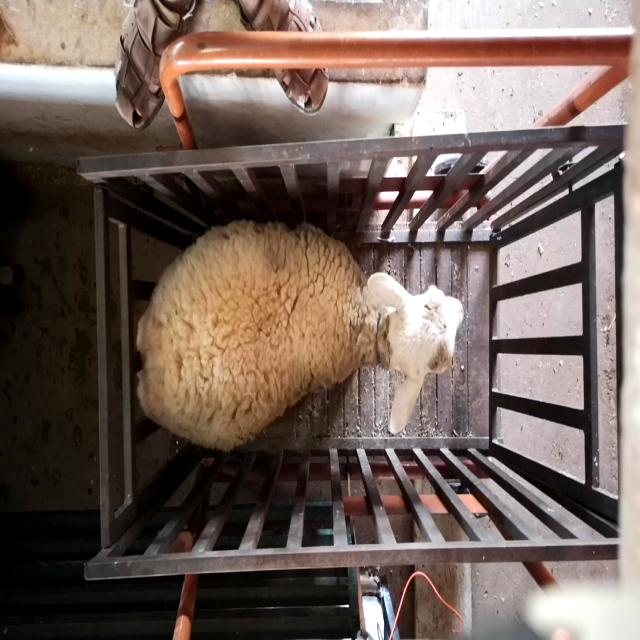sheep: (137, 219, 464, 452)
